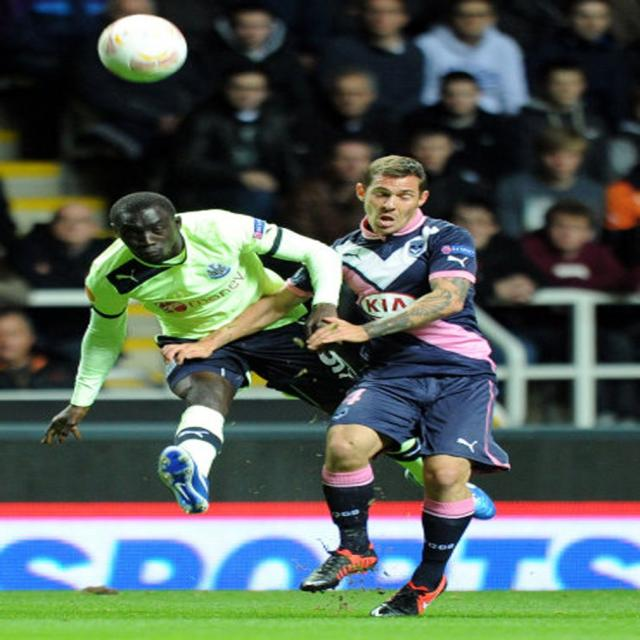body: (156, 151, 516, 622), (36, 192, 498, 520), (0, 0, 191, 169), (447, 197, 545, 365), (20, 204, 117, 368), (412, 0, 530, 117), (527, 0, 638, 122), (499, 126, 608, 242), (204, 69, 290, 210), (516, 202, 634, 294), (413, 67, 511, 175), (296, 66, 411, 158), (330, 0, 425, 111), (299, 137, 385, 245), (399, 130, 478, 223), (216, 8, 304, 78), (0, 309, 71, 390), (528, 64, 606, 133), (0, 158, 28, 309)
